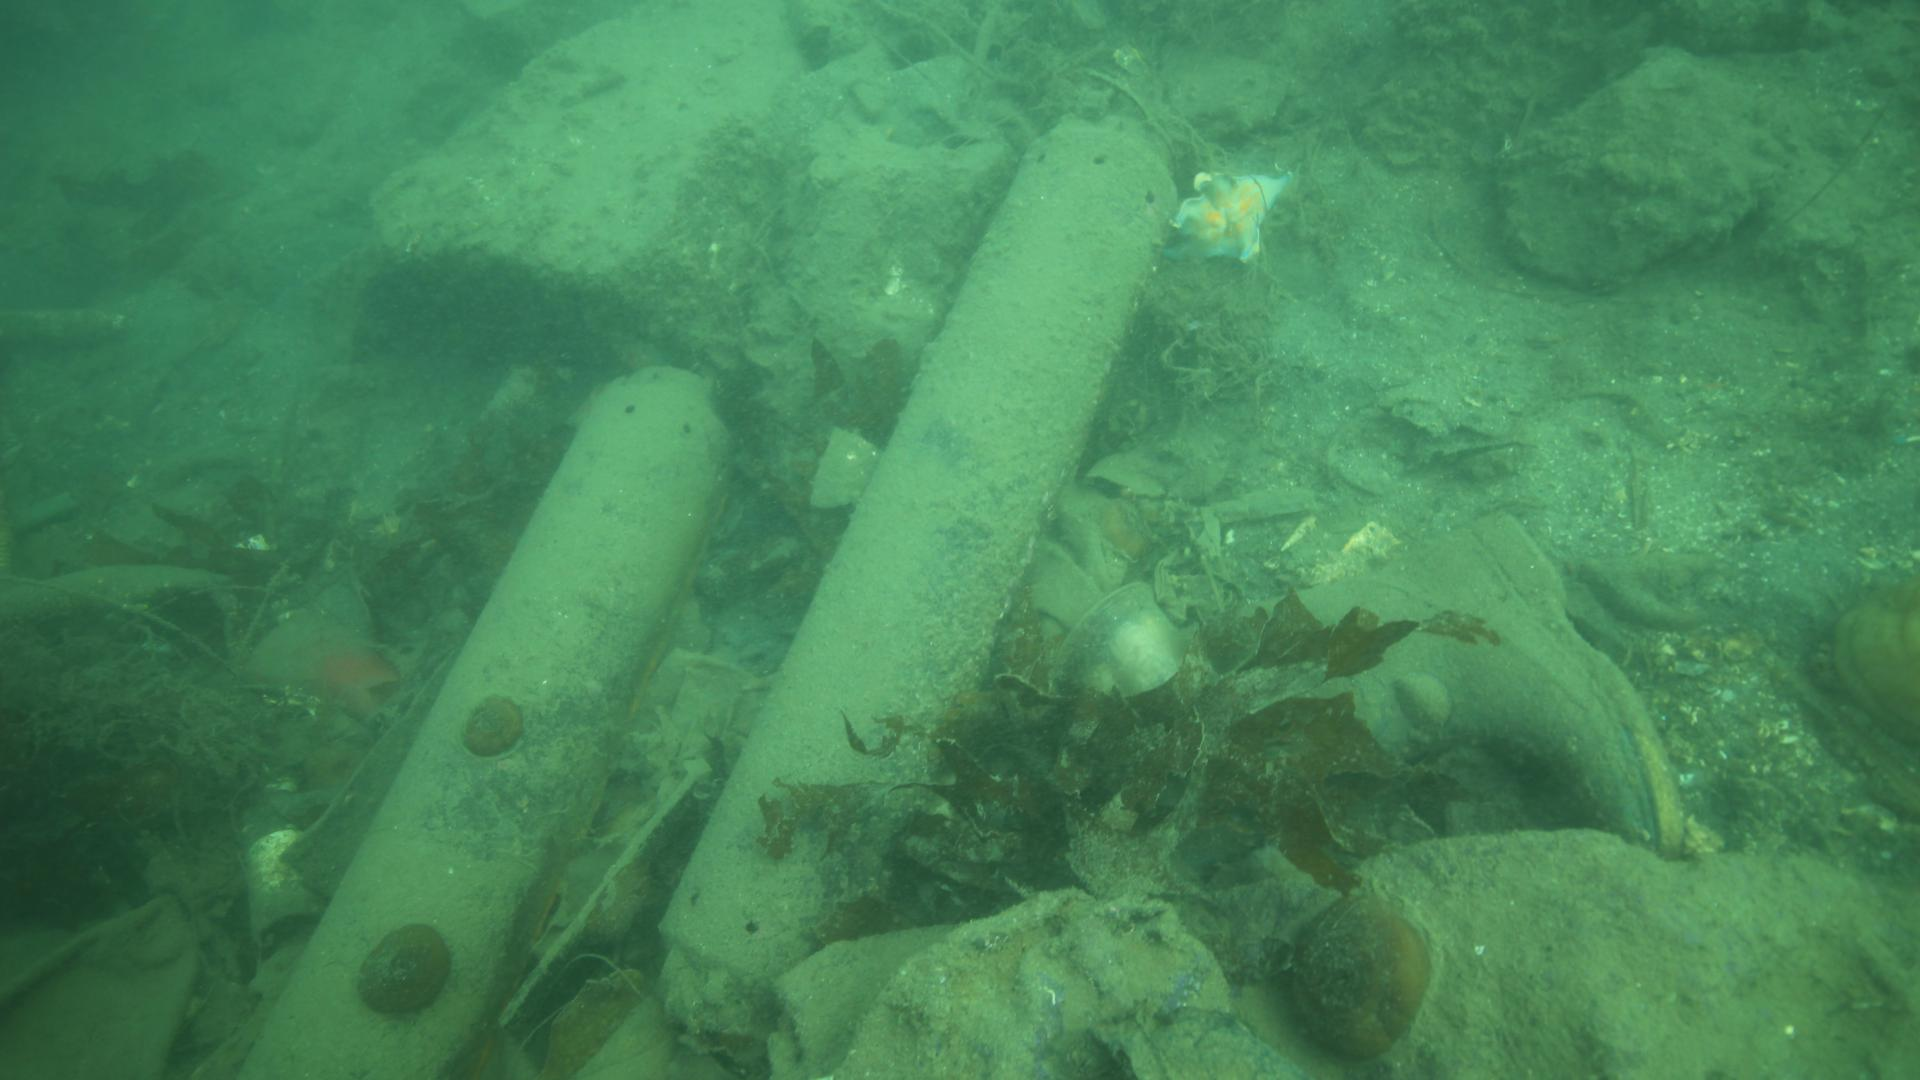eel fish trap: (654, 112, 1183, 1054), (231, 356, 735, 1080)
